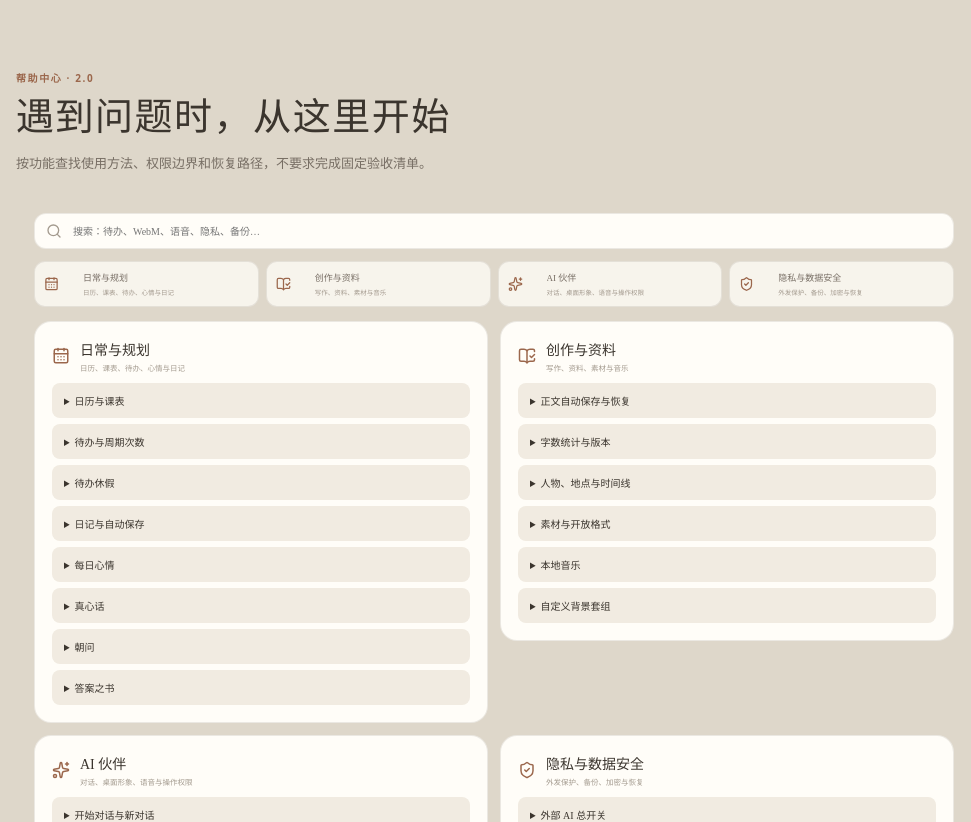
HelpView › filters help topics without hiding support tools
The width and height of the screenshot is (971, 822).
Type "WebM" into the field named "搜索帮助" at (502, 231), box [71,225,933,238]
(page scrolled)
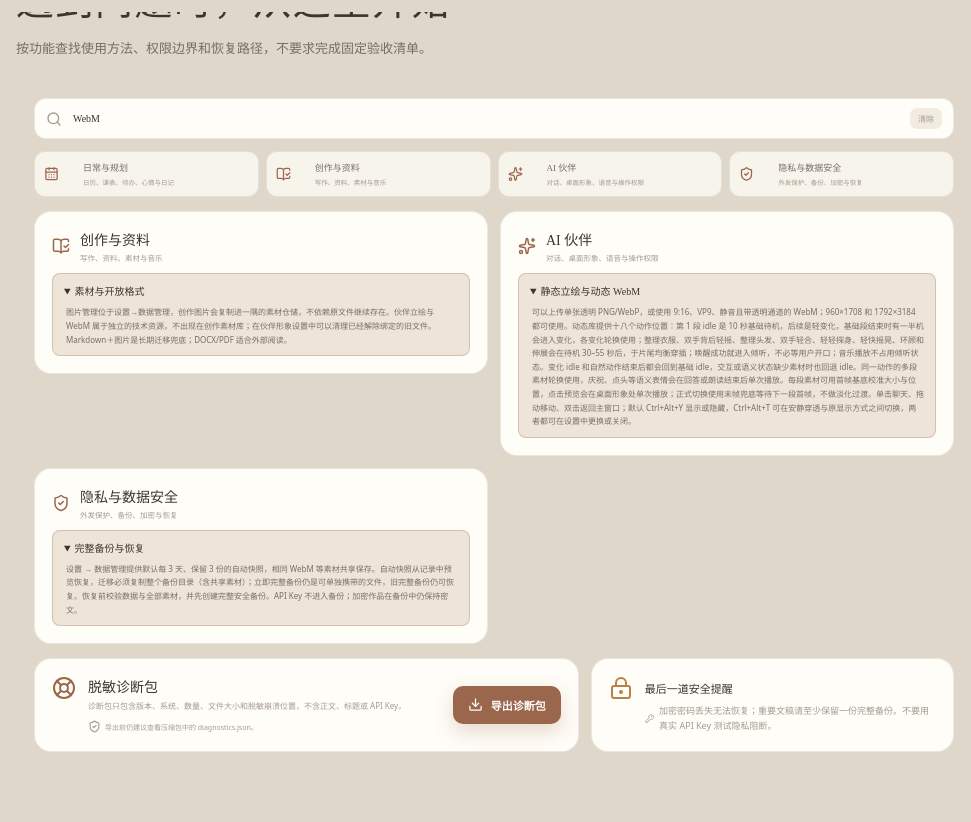
Expected: the heading "静态立绘与动态 WebM" is shown, [541,286,640,297]
Expected: the heading "待办休假" is gone
Expected: the button "导出诊断包" is shown, [453,686,561,724]
